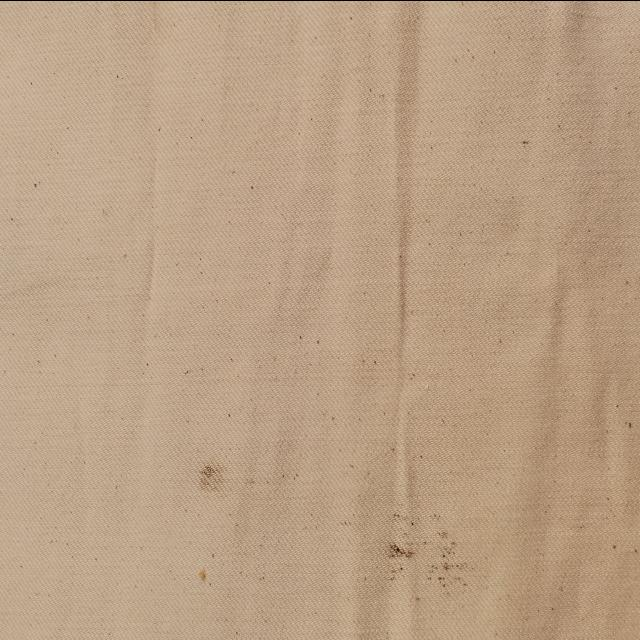taaaches: (384, 492, 470, 620), (198, 452, 235, 502), (192, 556, 214, 594)
